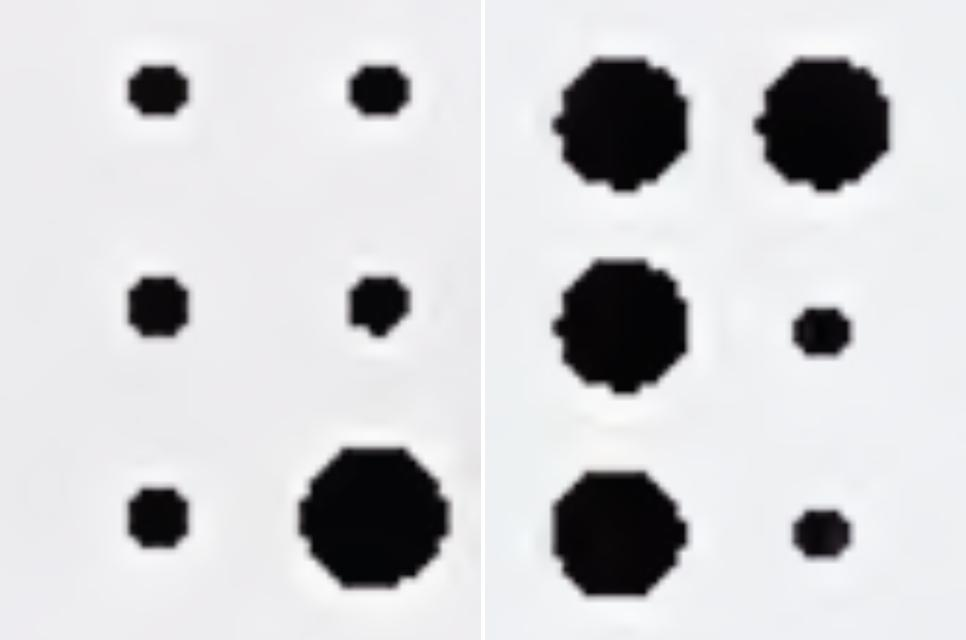capital_sign: (127, 65, 450, 588)
letter_P: (556, 55, 889, 598)
